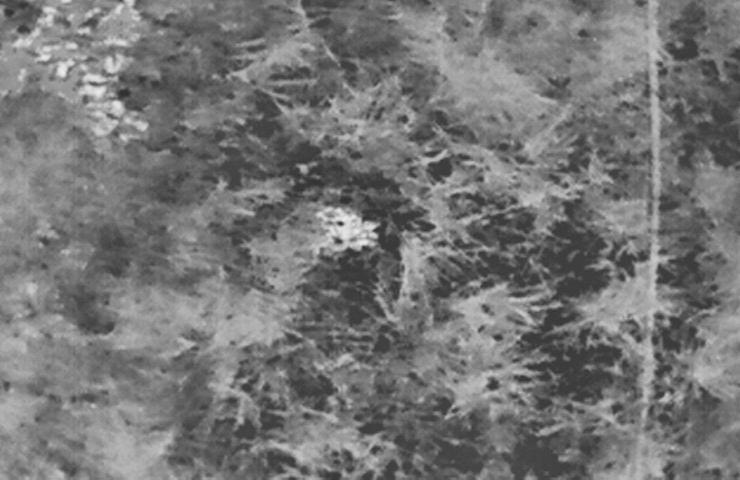landmines: (307, 200, 384, 262)
